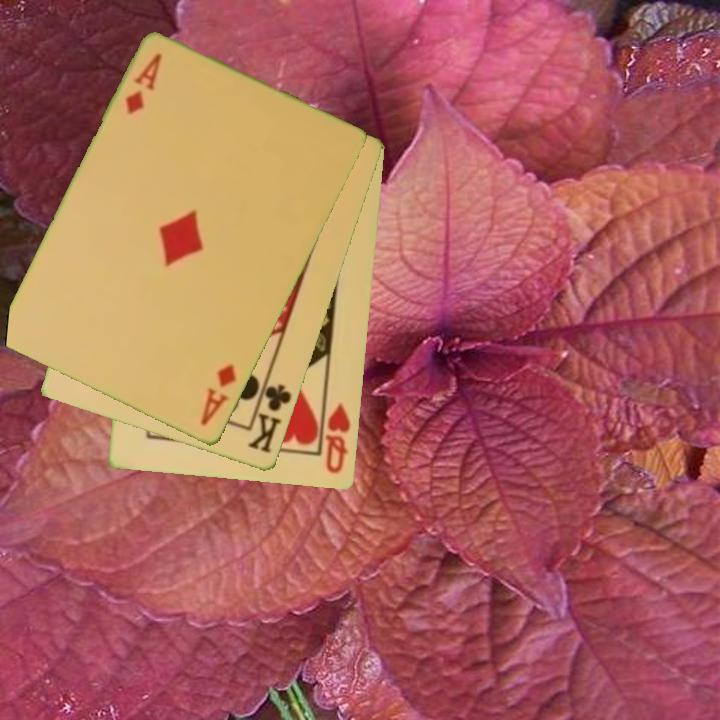Ad: (197, 360, 240, 429), (122, 49, 165, 118)
Kc: (244, 373, 295, 457)
Qh: (322, 399, 354, 477)
